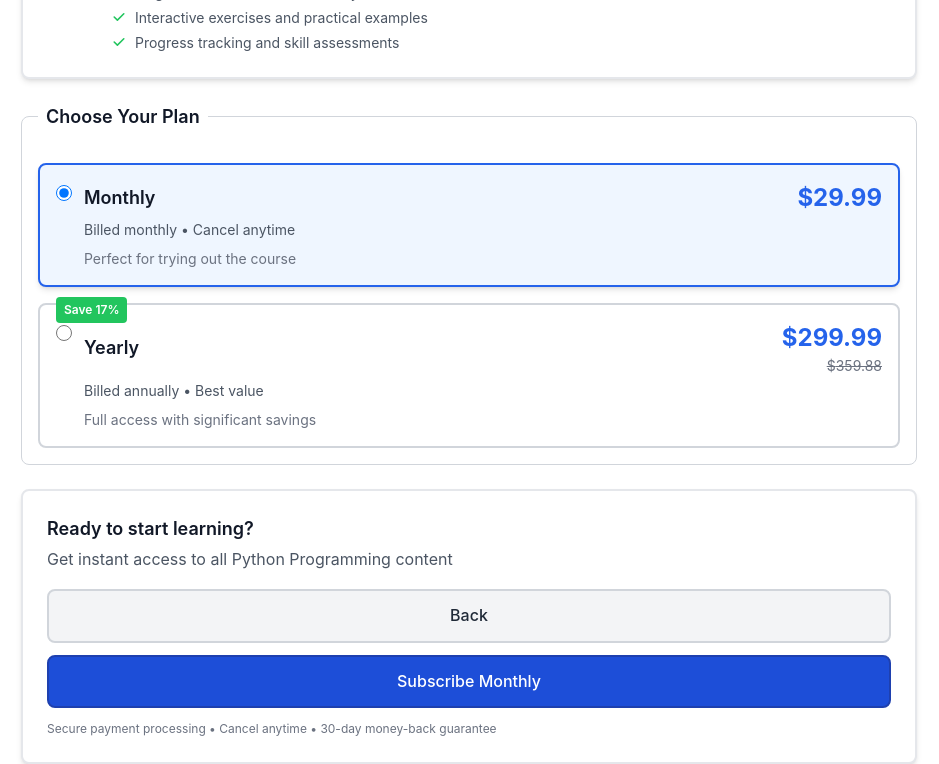
Test: PaymentGate Component › Subscription Purchase Interface › handles purchase errors
(page scrolled)
Click the button "Subscribe Monthly": (469, 681) [47,654,891,708]
(page scrolled)
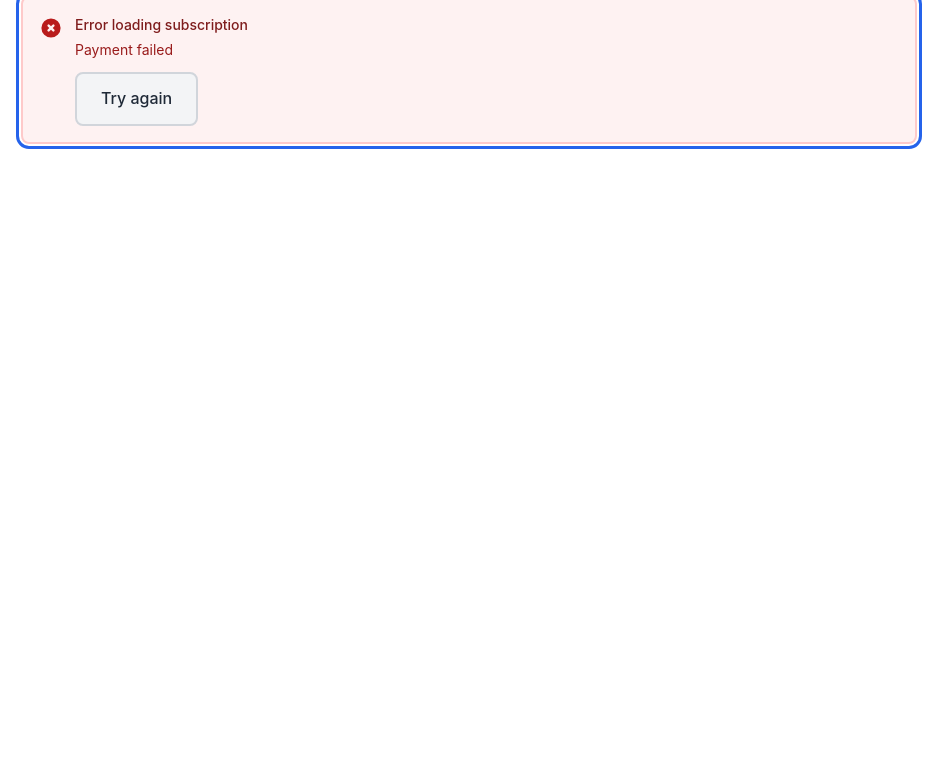
Check: the heading "Error loading subscription" is shown, box [75,14,248,35]
Check: the text "Payment failed" is shown, box [75,41,173,58]
